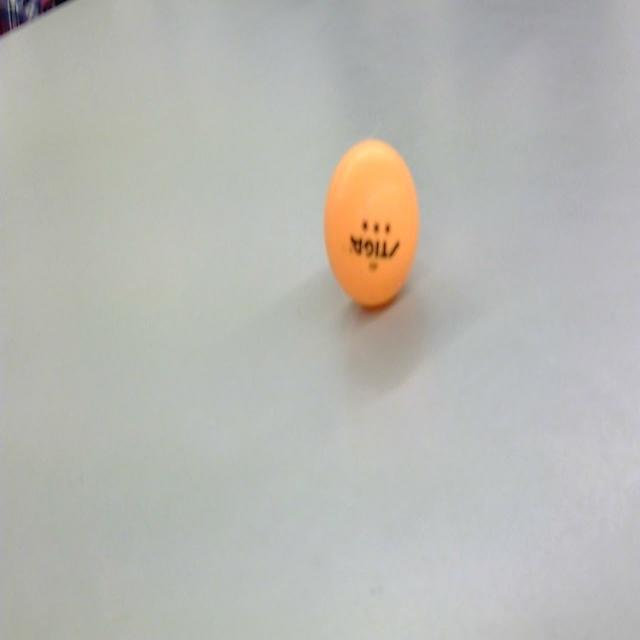ball: (321, 134, 421, 314)
